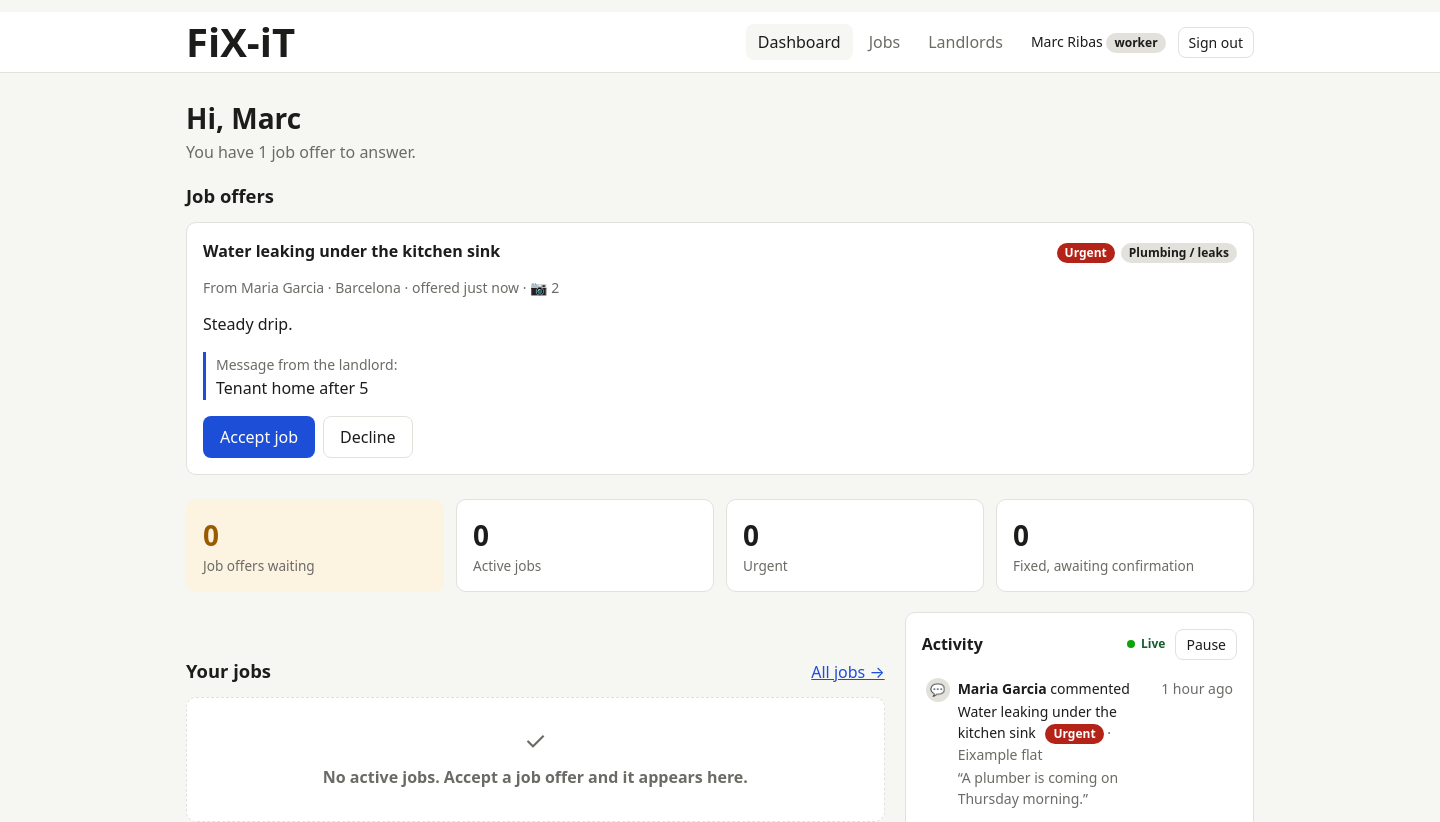
Scenario: workers › a worker sees the offer on their dashboard and accepts it
Expected: the text "Water leaking under the kitchen sink" is shown, x1=203 y1=239 x2=500 y2=263
Expected: the text "Tenant home after 5" is shown, x1=216 y1=377 x2=368 y2=399
What coordinates should you click on to do the following:
click the button "Accept job"
I would click on:
 (259, 437)
Its box is x1=203 y1=416 x2=315 y2=458.
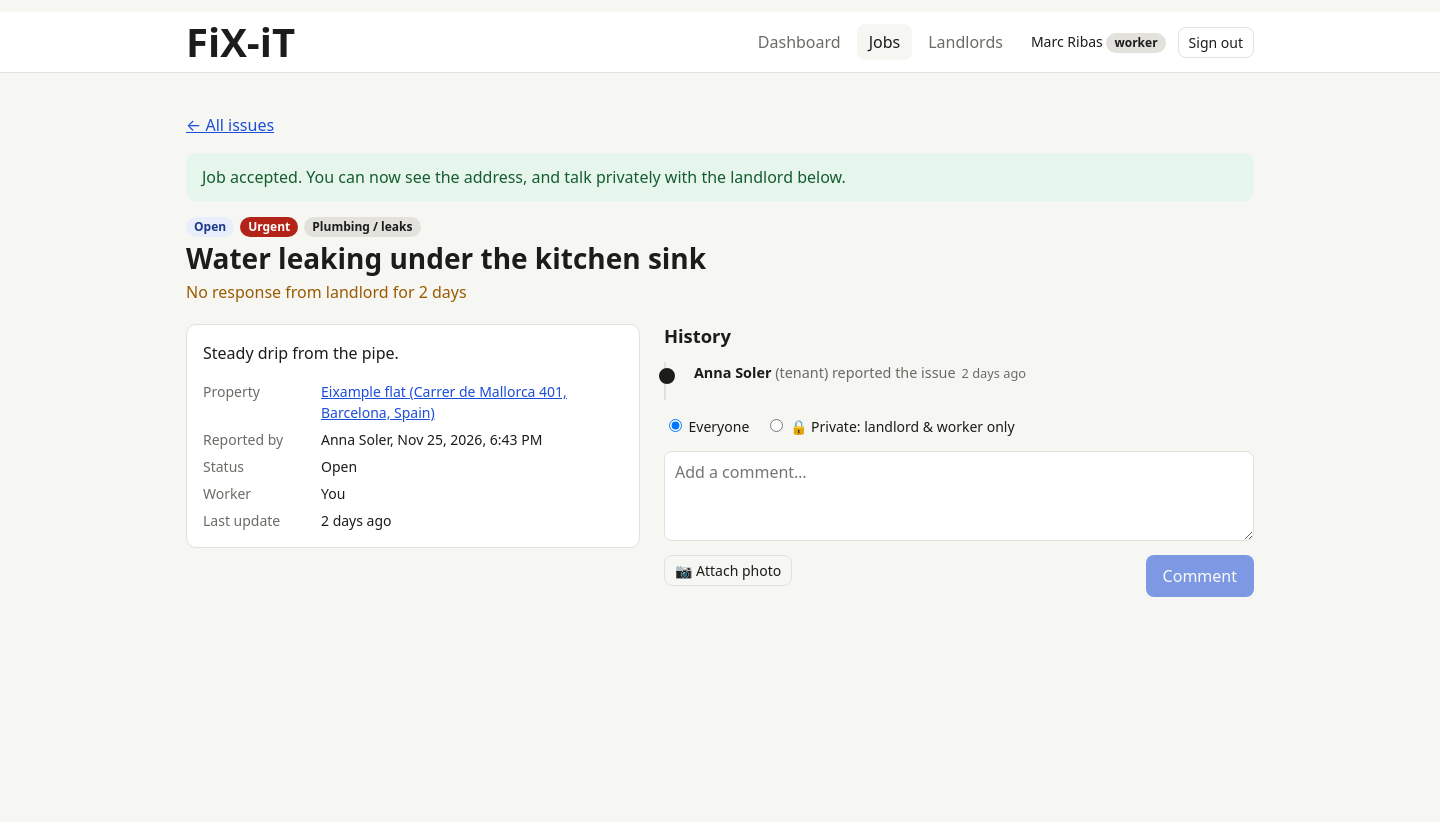
Expected: the text "Job accepted" is shown, x1=202 y1=166 x2=846 y2=188
